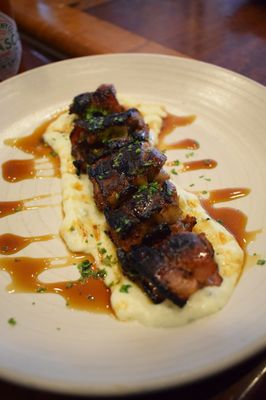curry: (0, 0, 266, 365)
